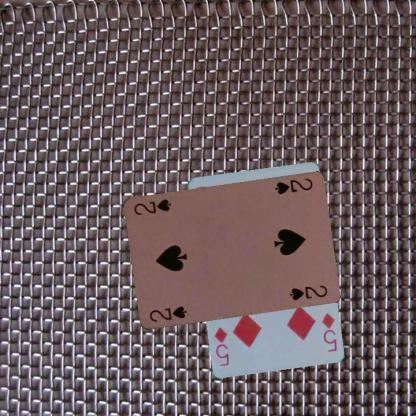2s: (272, 176, 314, 197), (146, 304, 188, 323)
5d: (318, 310, 338, 353)
